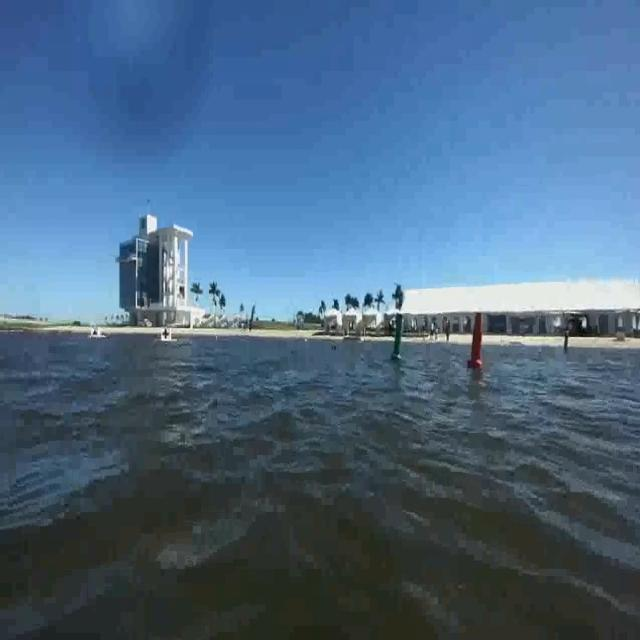green-column-buoy: (391, 315, 405, 361)
red-column-buoy: (466, 313, 485, 370)
